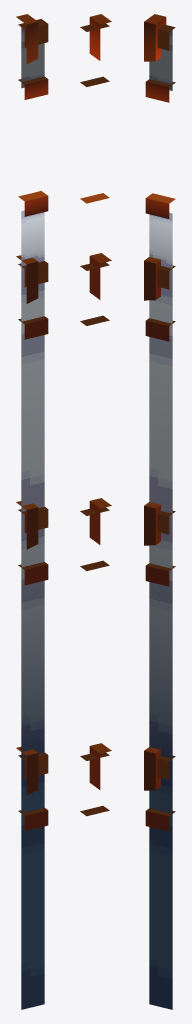
3 views of the same model, side by side, from view 1: azimuth 30°, elevation 25°; view 2: azimuth 210°, elevation 25°; view 3: azimuth 330°, elevation 25° (orthographic).
Bounding box in the file's own units: 1 × 40.25 × 0.7891.
Materials: 2 (2 with a texture image).
